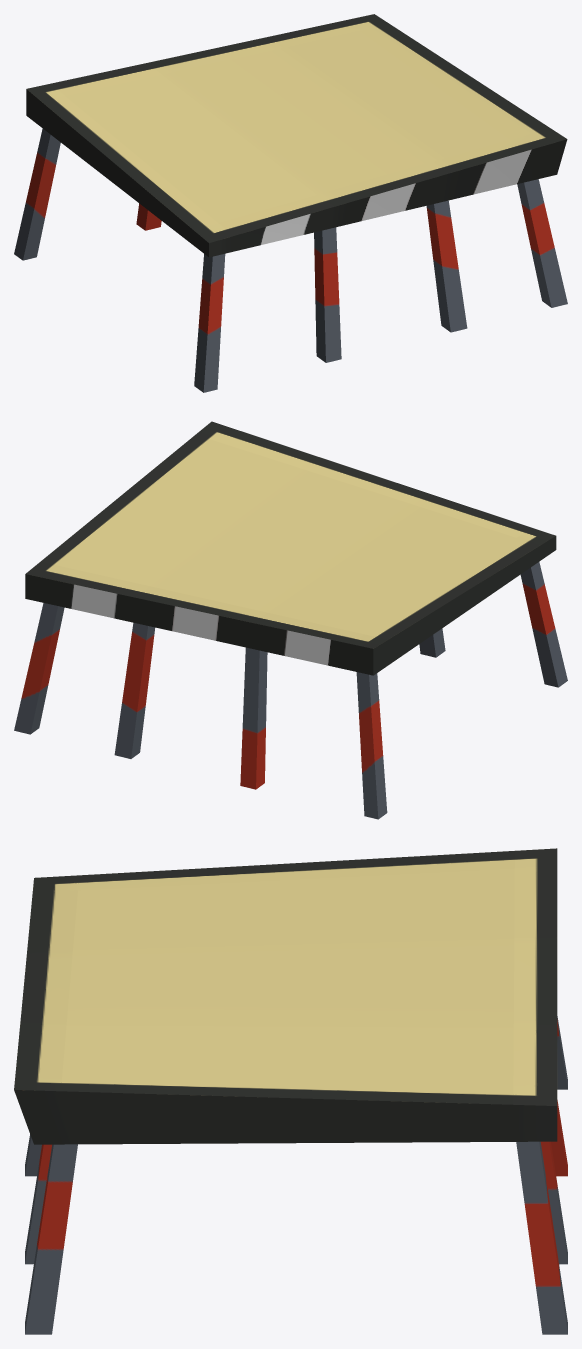
Rendered from Dakje.fbx.
The picture shows the model from 3 angles, top to bottom: view 1: azimuth 30°, elevation 25°; view 2: azimuth 150°, elevation 25°; view 3: azimuth 270°, elevation 25°; orthographic projection. The views are drawn at different scales.
Parts seen in each view (by area): view 1: Dakje1; view 2: Dakje1; view 3: Dakje1.
Part boxes in pixels (x1,y1,x2,y2): Dakje1: (14,14,567,392); Dakje1: (14,421,567,819); Dakje1: (14,848,567,1334).
Size of the model in its own units: 18.16 by 8.03 by 16.7.
